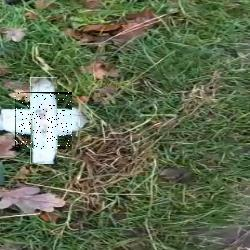plastic: (15, 92, 72, 149)
